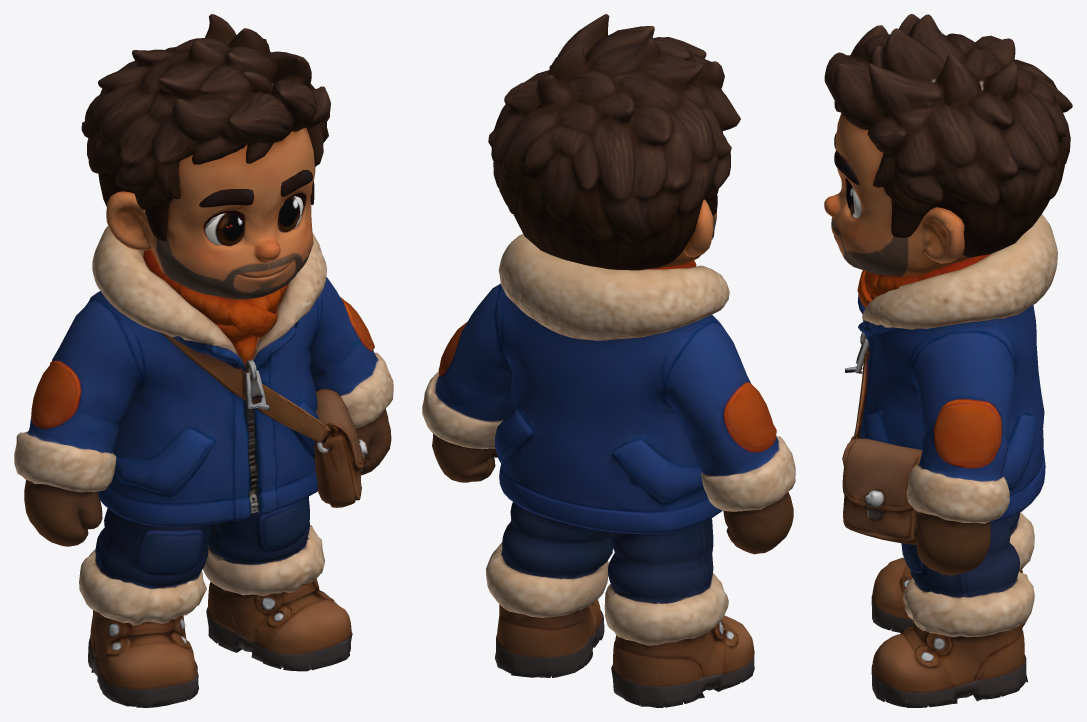
The model's file is Meshy-survivor-original.glb.
3 renders of one model, left to right at view 1: azimuth 30°, elevation 25°; view 2: azimuth 150°, elevation 25°; view 3: azimuth 270°, elevation 25°, orthographic.
Visible parts, largest first — view 1: geometry_0; view 2: geometry_0; view 3: geometry_0.
Part boxes in pixels (<box>): geometry_0: <box>14,14,393,707</box>; geometry_0: <box>422,14,795,707</box>; geometry_0: <box>824,14,1072,707</box>.
Size of the model in its own units: 0.5781 by 0.9512 by 0.3433.
Materials: 1 (1 with a texture image).
